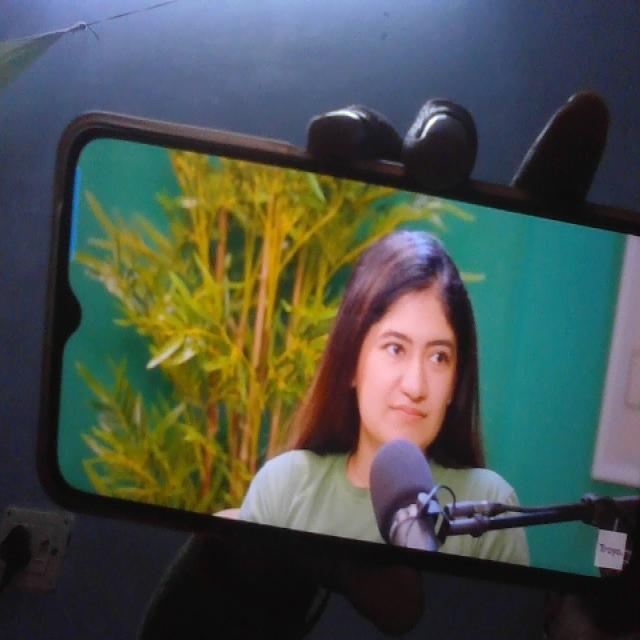fake: (343, 221, 467, 456)
